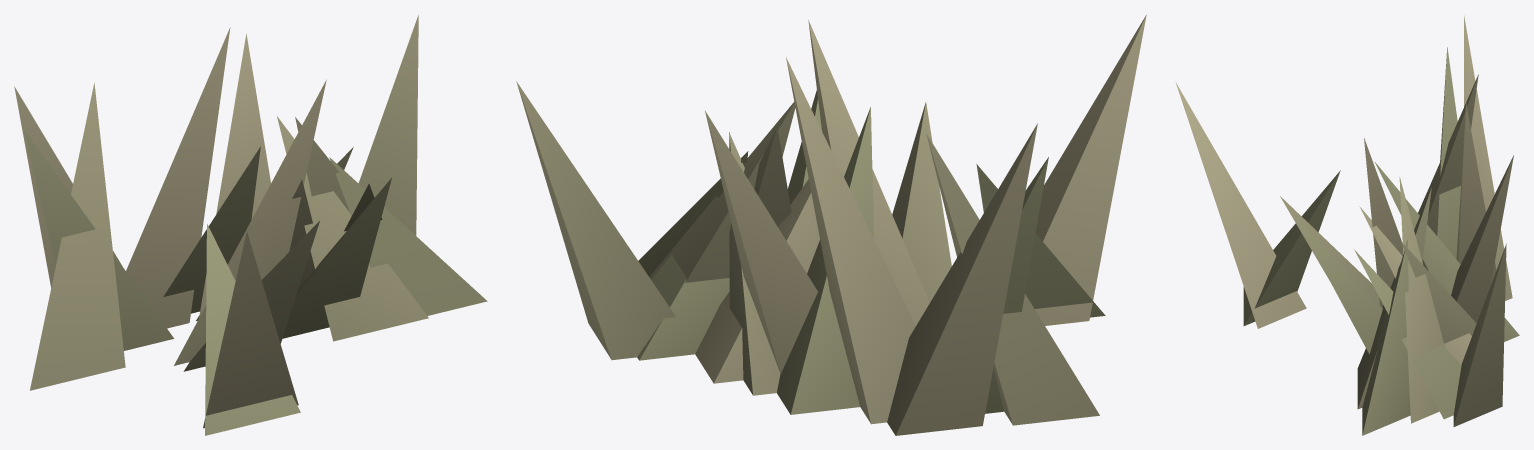
Rendered from mil_grass.glb.
The picture shows the model from 3 angles, left to right: view 1: azimuth 30°, elevation 25°; view 2: azimuth 150°, elevation 25°; view 3: azimuth 270°, elevation 25°; orthographic projection. The views are drawn at different scales.
Parts seen in each view (by area): view 1: mil_grass; view 2: mil_grass; view 3: mil_grass.
Part boxes in pixels (x1=…): mil_grass: x1=14, y1=15, x2=487, y2=435; mil_grass: x1=516, y1=15, x2=1146, y2=435; mil_grass: x1=1175, y1=15, x2=1519, y2=435.
Bounding box in the file's own units: 0.8407 × 0.5027 × 0.6347.
